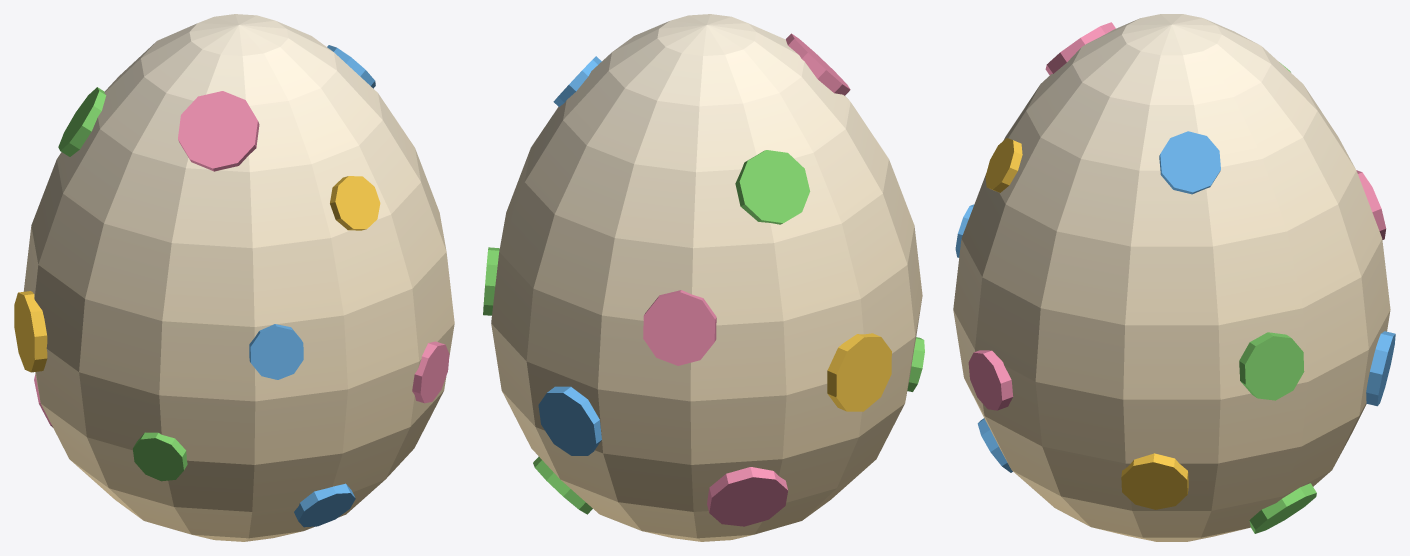
The model's file is egg.glb.
3 views of the same model, side by side, from view 1: azimuth 30°, elevation 25°; view 2: azimuth 150°, elevation 25°; view 3: azimuth 270°, elevation 25° (orthographic).
Visible parts, largest first — view 1: shell; view 2: shell; view 3: shell.
Boxes of the visible parts, box(x1,y1,x2,y2) form: shell: box(14, 14, 454, 541); shell: box(483, 14, 924, 541); shell: box(953, 14, 1395, 541).
Bounding box in the file's own units: 1.02 × 1.27 × 1.02.
1 material, 1 textured.
